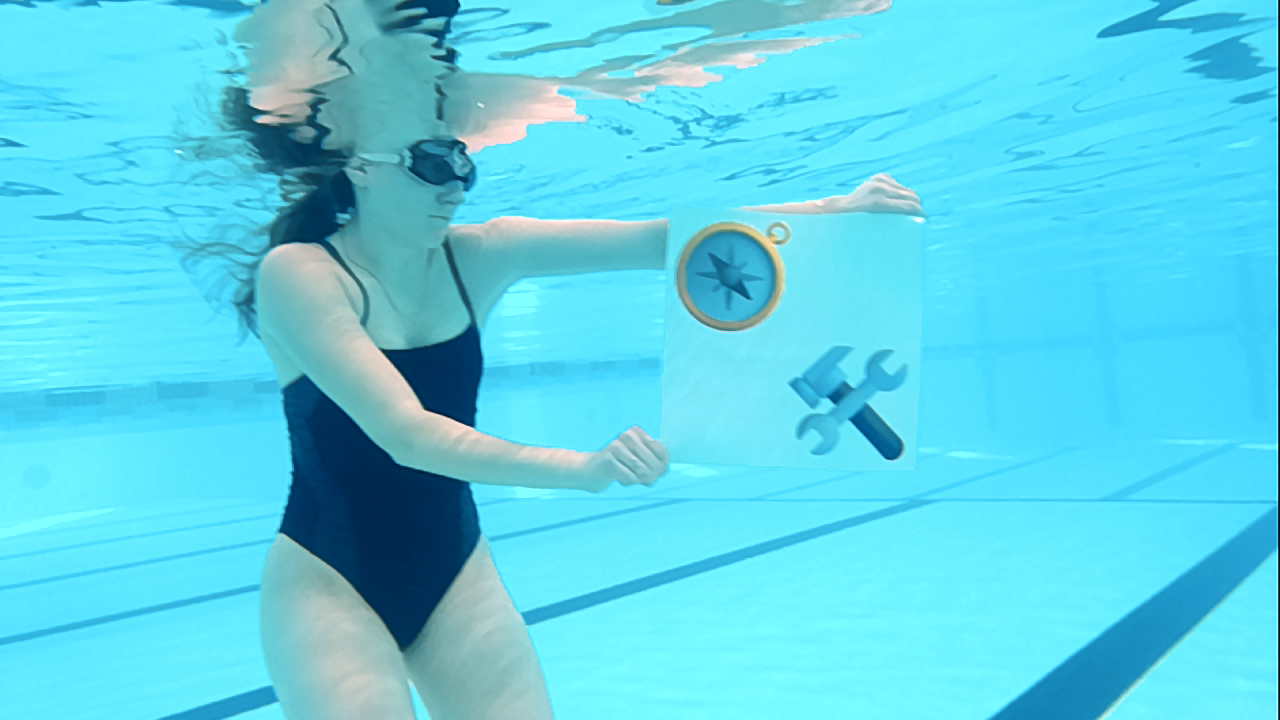compass_hammer: (675, 213, 910, 464)
